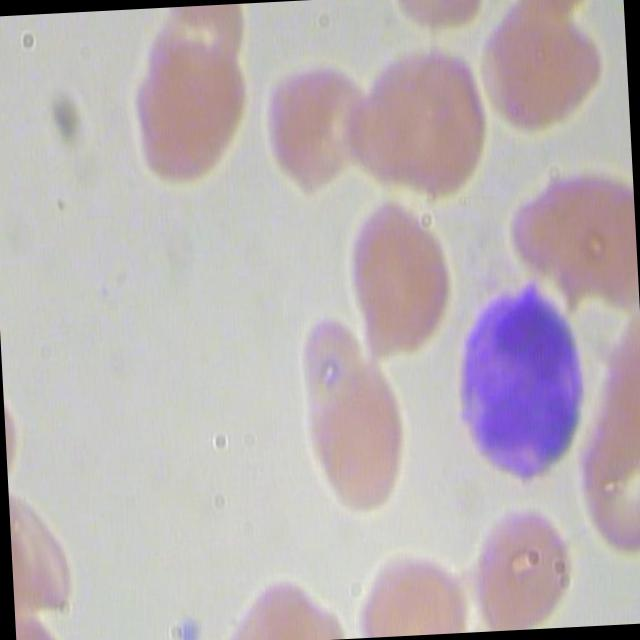Platelets: (167, 611, 213, 640)
RBC: (347, 34, 498, 208), (297, 354, 430, 518), (333, 197, 466, 360), (470, 0, 611, 141), (254, 49, 380, 204), (130, 31, 255, 186), (462, 496, 580, 632)
WBC: (446, 267, 604, 485)
